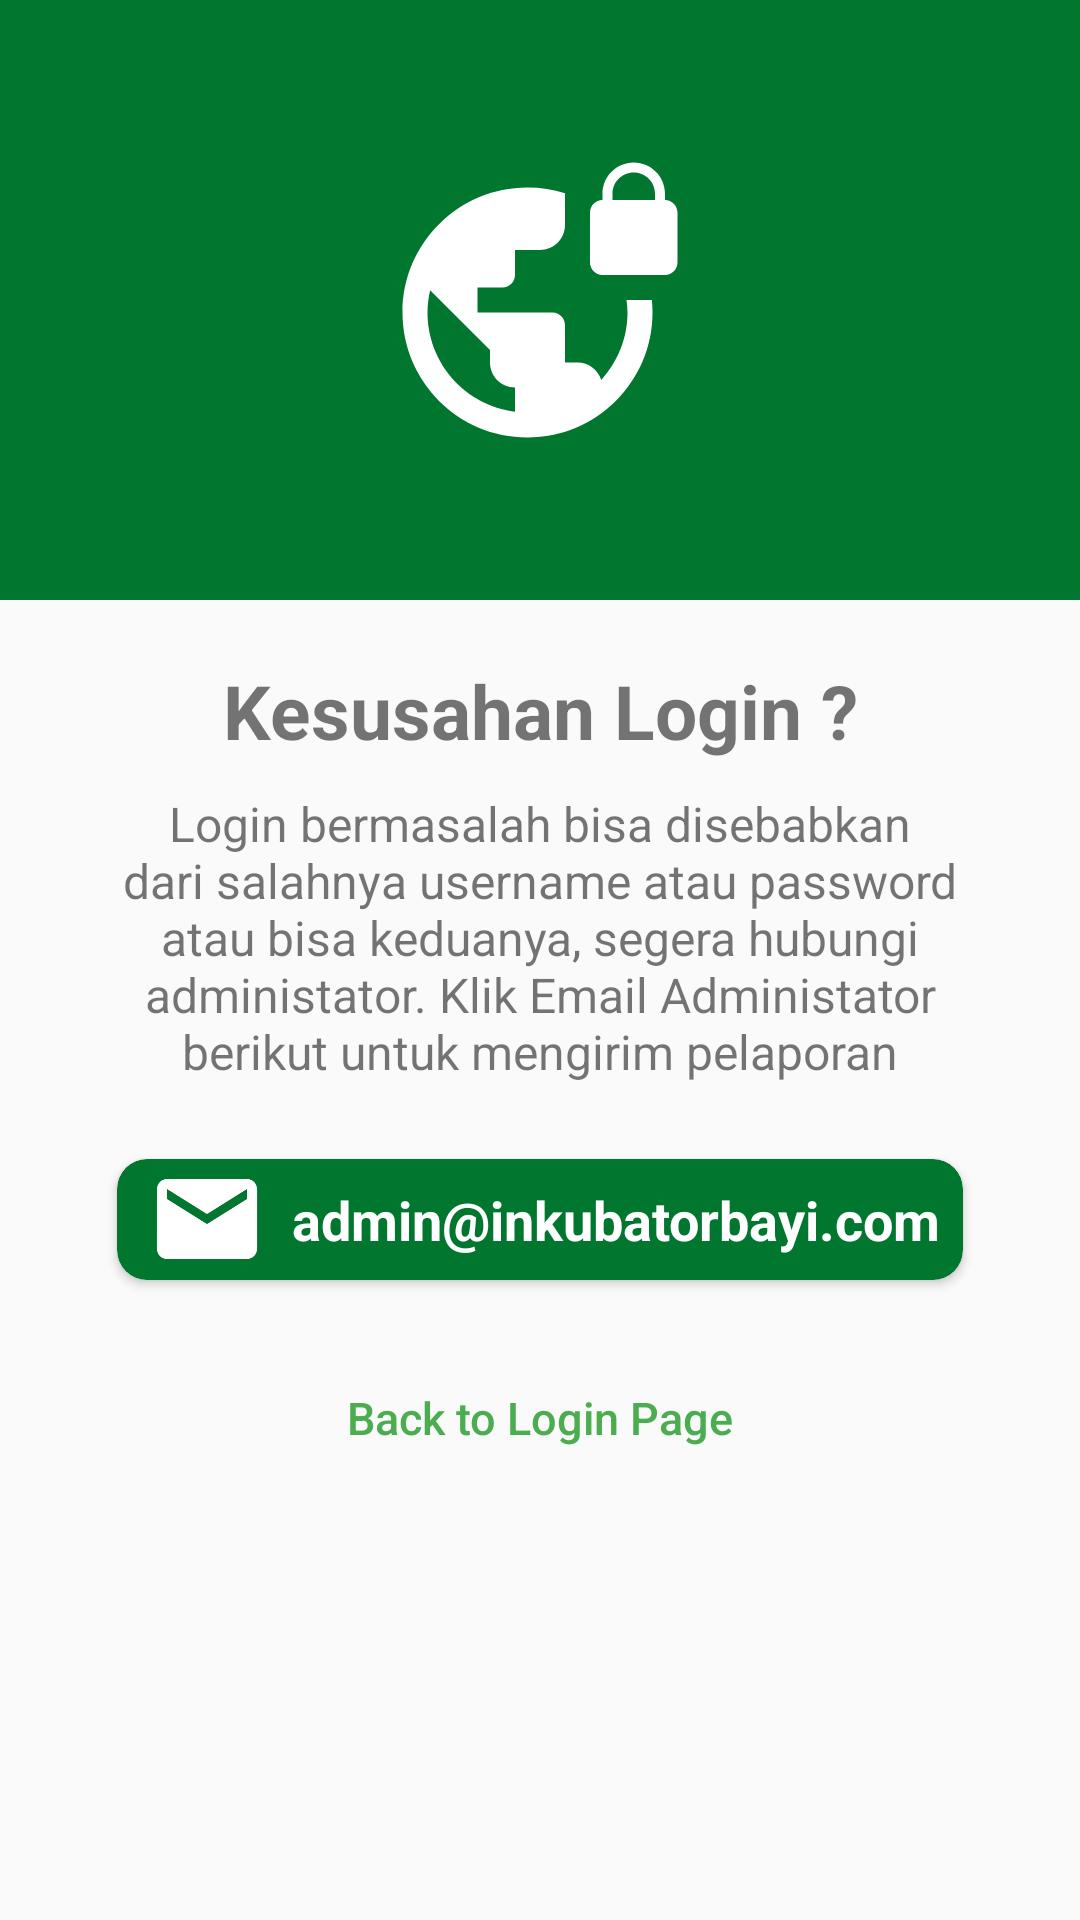

Icon click points for this 1080w x 1920h phone screenshot, format [x,y]:
forogot password: [540,300]
